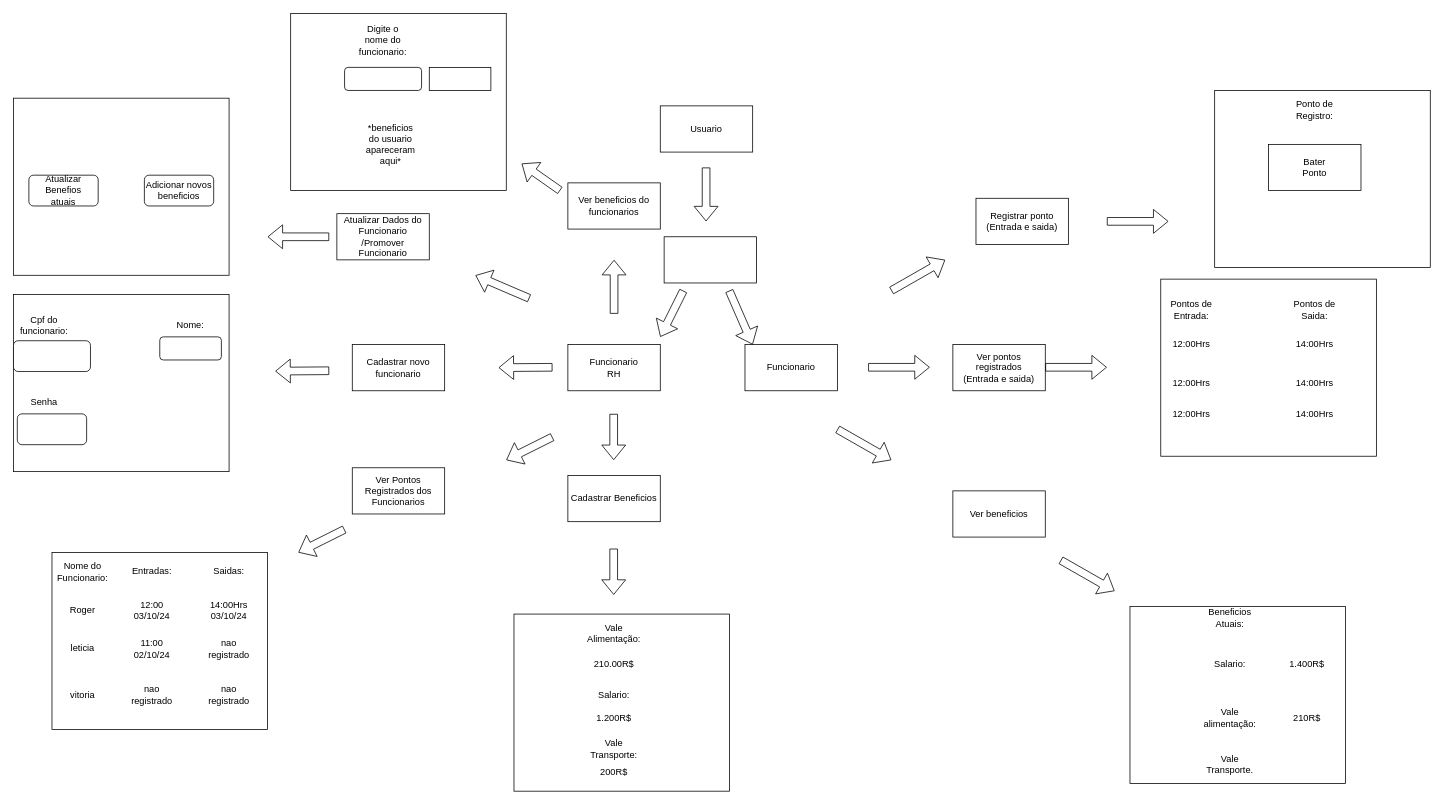
Image size: 1444x805. Some labels were removed from this diagram. Each missing label, with the box of its shape:
Cadastrar-se/logar-se como: (663, 236, 757, 283)
ver: (429, 67, 491, 90)
